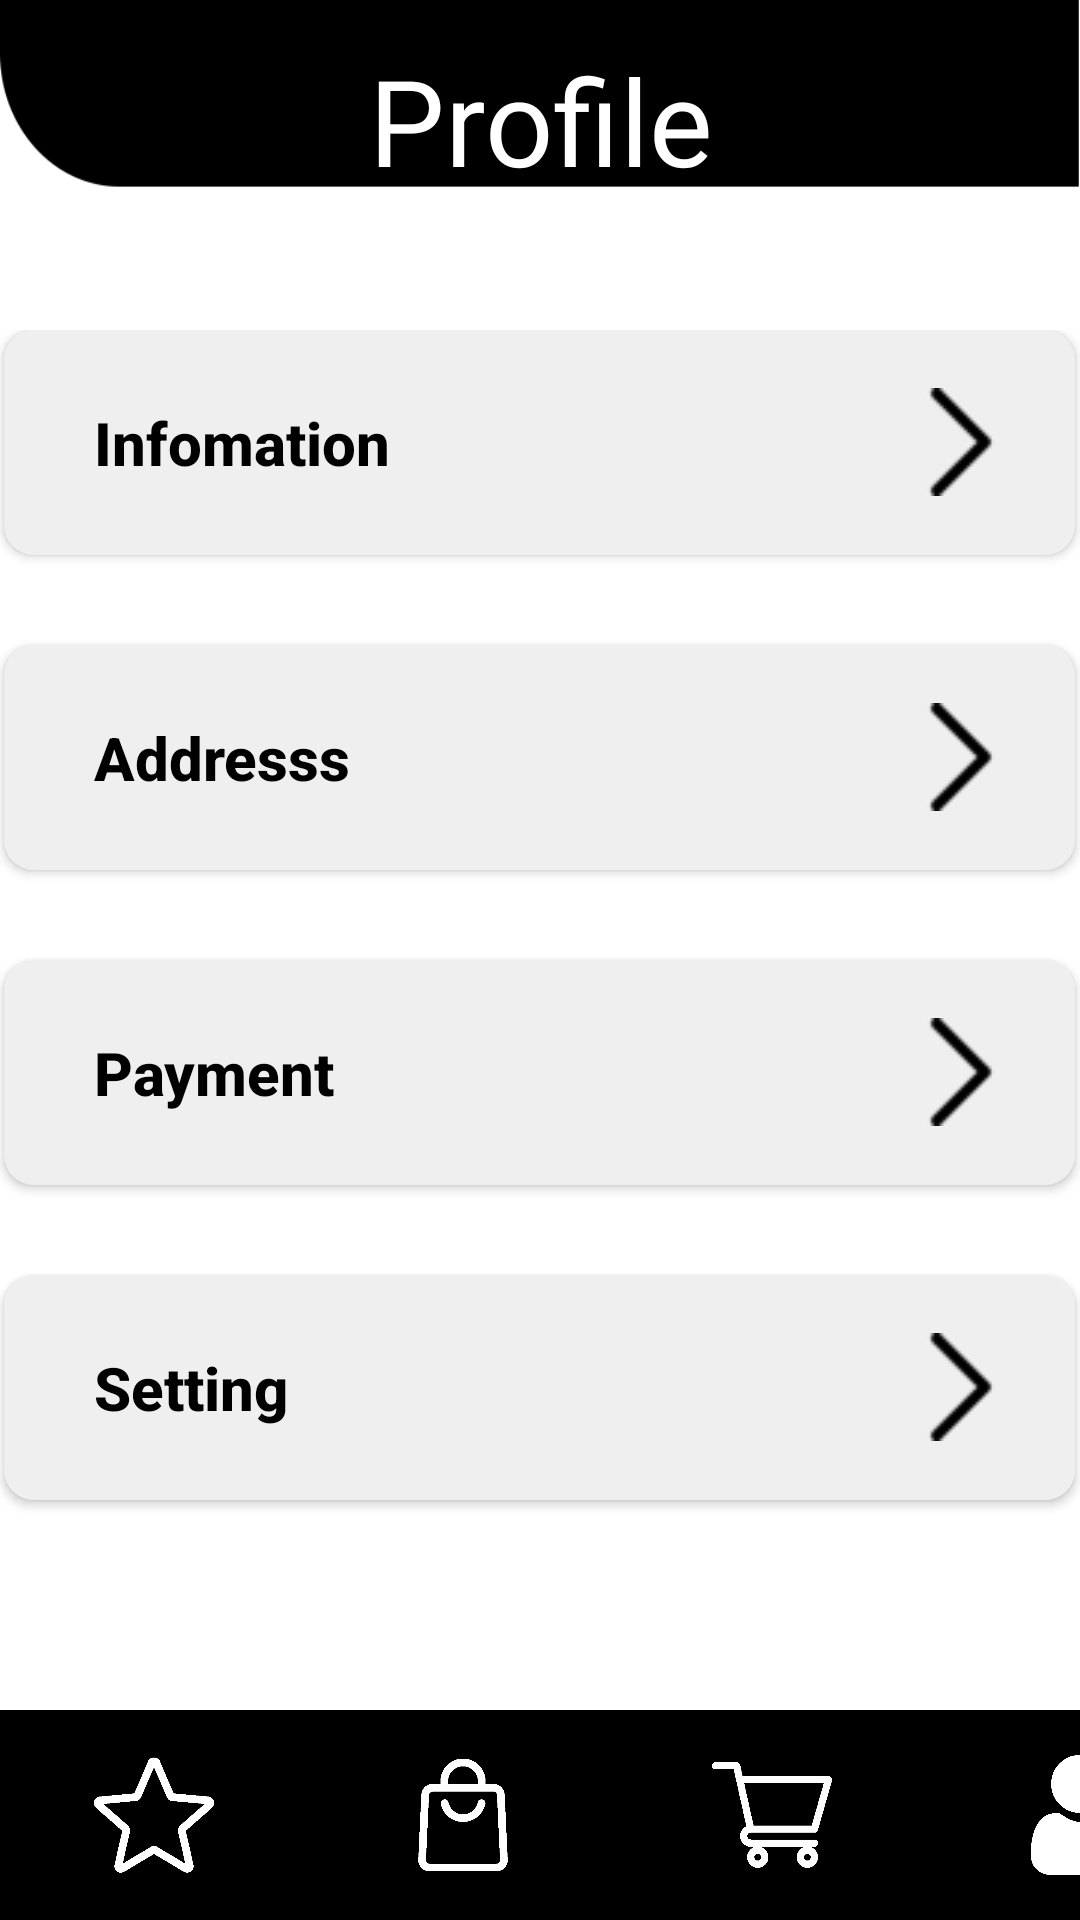

Icon click points for this 1080*1920 phone screenshot, format (x,y):
bag: (463,1815)
giohang: (772,1815)
sao: (154,1815)
